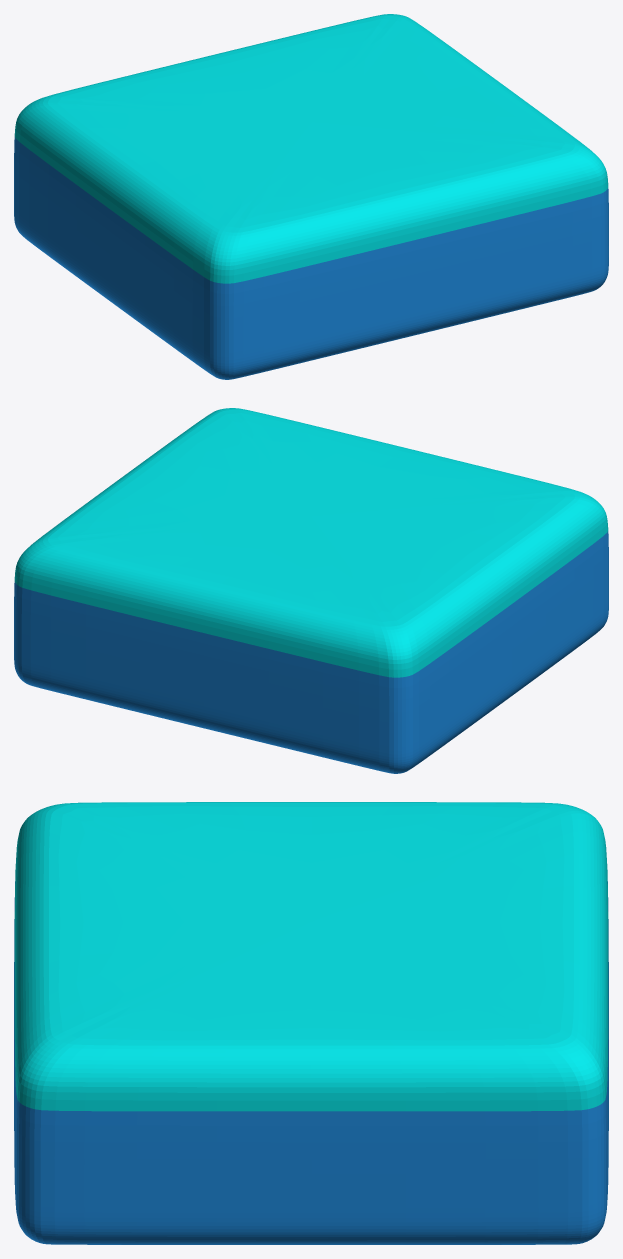
File: p bleu  round 1.fbx
3 views of the same model, one above another, from view 1: azimuth 30°, elevation 25°; view 2: azimuth 150°, elevation 25°; view 3: azimuth 270°, elevation 25° (orthographic). The views are drawn at different scales.
Visible parts, largest first — view 1: Cube.001; view 2: Cube.001; view 3: Cube.001.
Part boxes in pixels (x1,y1,x2,y2): Cube.001: (14, 14, 608, 379); Cube.001: (14, 408, 608, 773); Cube.001: (14, 802, 608, 1244).
Size of the model in its own units: 589 by 200 by 544.
